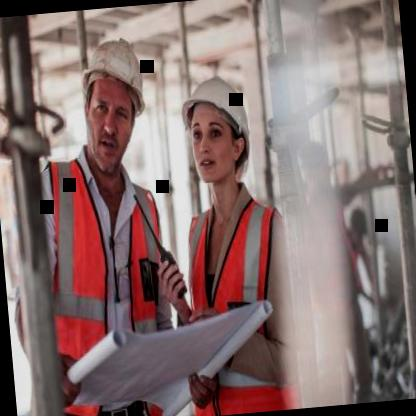helmet: (61, 17, 157, 192), (171, 51, 263, 214)
